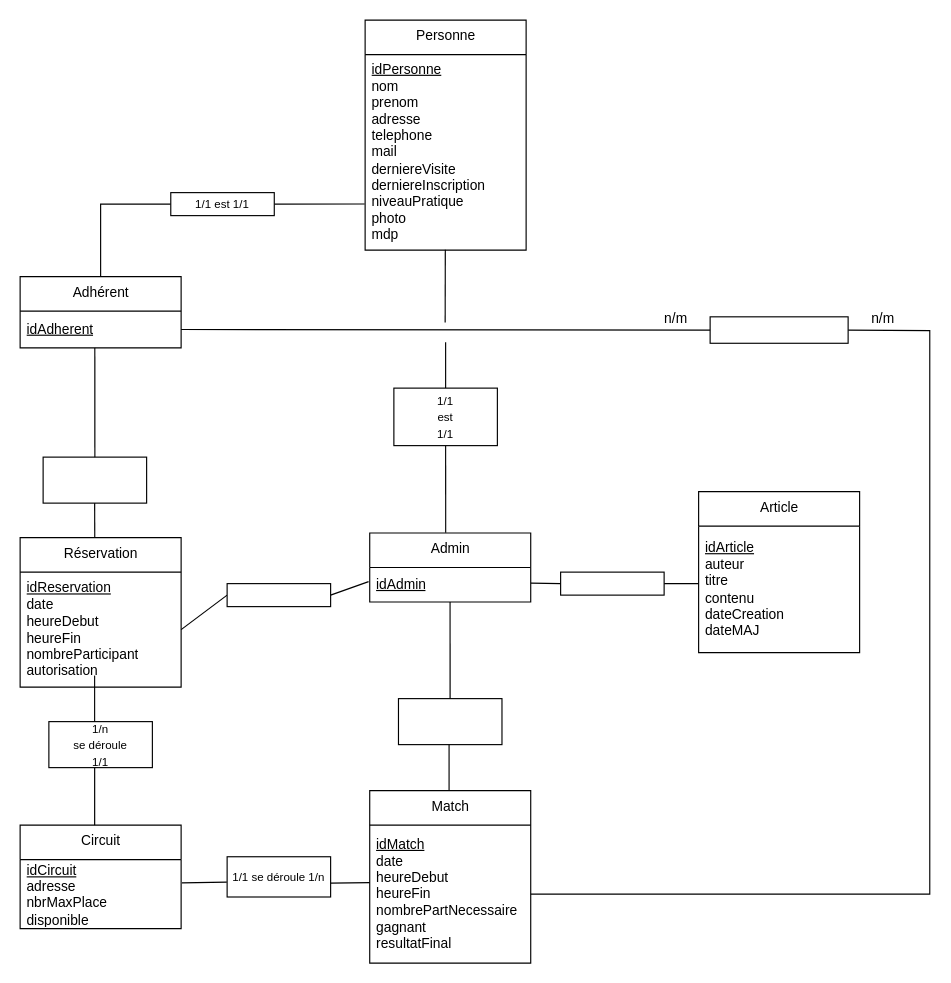
Some shapes in this 951 by 983 pixel diagram are drawn without their labels. Each missing label, with the centre of its shape:
"1/1 gère 1/n" belongs at point 449,721.
"1/1 réserve 0/n" belongs at point 94,479.
"1/1 écrit 0/n" belongs at point 611,583.
"1/n gère 1/1" belongs at point 278,594.
"Match_has_Adhérent" belongs at point 778,329.
